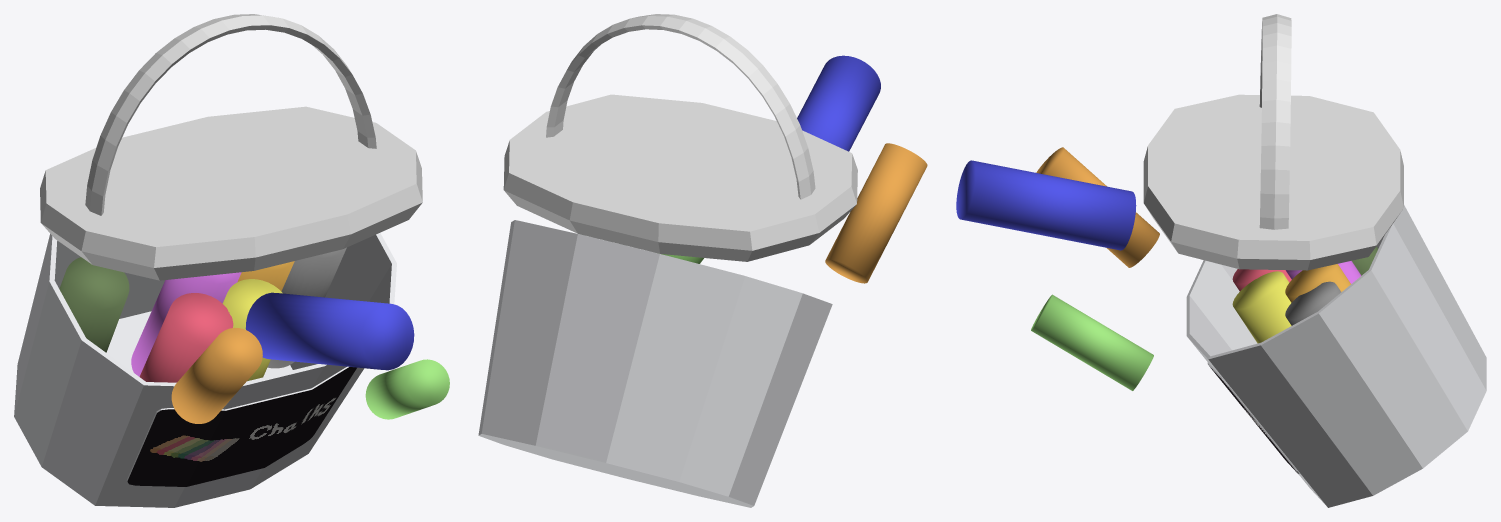
3 views of the same model, side by side, from view 1: azimuth 30°, elevation 25°; view 2: azimuth 150°, elevation 25°; view 3: azimuth 270°, elevation 25° (orthographic). The views are drawn at different scales.
Parts seen in each view (by area): view 1: Cube, Torus; view 2: Cube, Torus; view 3: Cube, Torus.
Part boxes in pixels (x1,y1,x2,y2): Cube: (14,233,449,507); Torus: (40,14,422,280); Cube: (478,55,927,507); Torus: (503,14,857,261); Cube: (956,147,1486,507); Torus: (1143,14,1403,270).
Size of the model in its own units: 2.75 by 3.81 by 4.12.
Materials: 11 (1 with a texture image).
